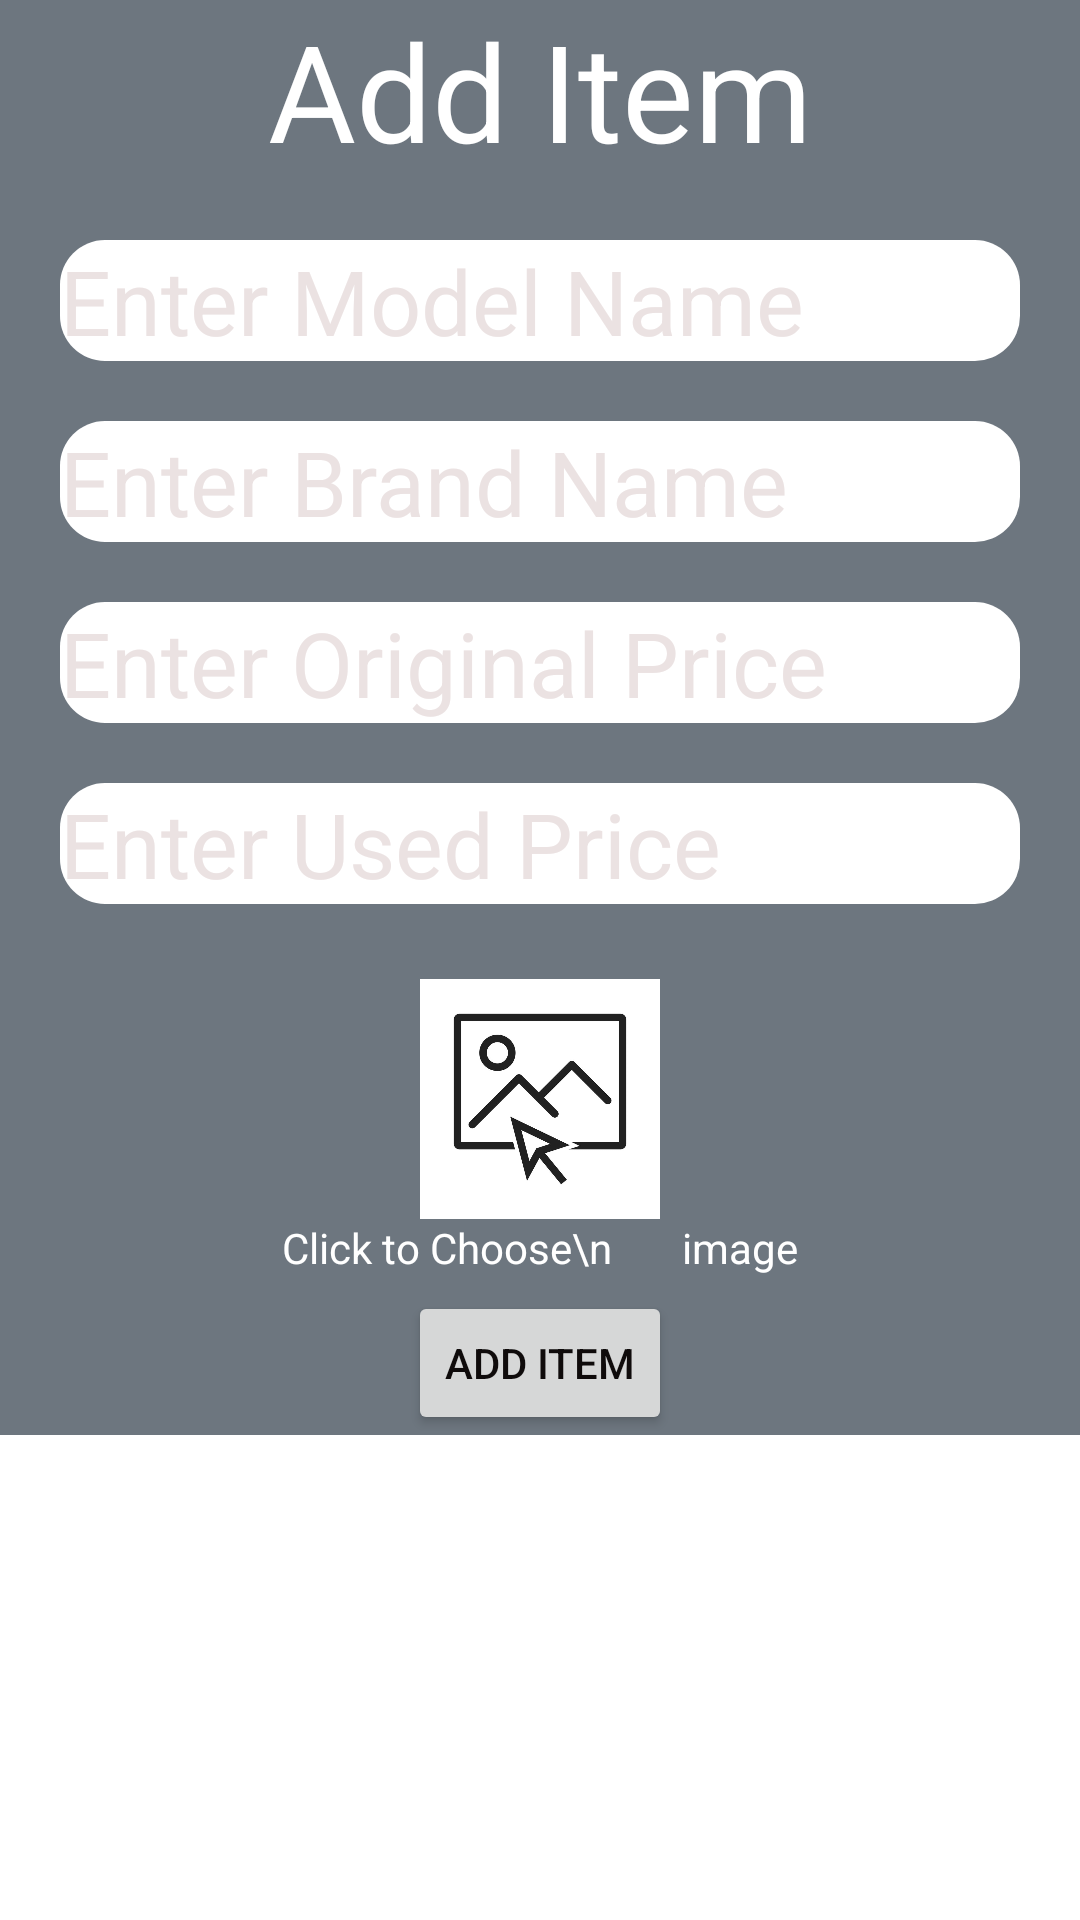

Named icons in this screenshot (1080 x 1920) and their centers, [x,y]:
selectimg: [540,1099]
